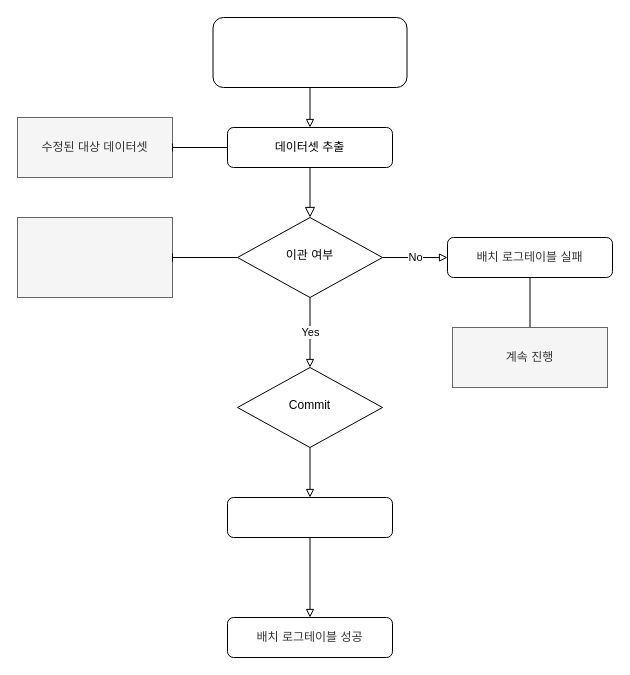
Image size: 630x675. Some labels were removed from this diagram. The box of each missing label's shape, as (x1, y1, x2, y2) in pixels:
prc_biz_batch_dp_anon_send 실행: (212, 16, 407, 88)
업무 테이블에서 인터페이스 테이블로 이관 (IF_OUT_* : 30개): (16, 216, 172, 298)
종료: (226, 496, 392, 538)
